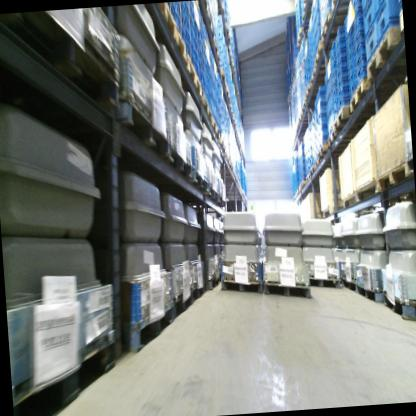pallet: (5, 6, 125, 122), (10, 326, 121, 416), (122, 96, 172, 164), (120, 304, 177, 355), (147, 1, 189, 70), (347, 77, 406, 117), (366, 28, 407, 82), (163, 143, 197, 189), (311, 34, 350, 68), (382, 286, 416, 325), (263, 276, 311, 303), (327, 122, 372, 149), (319, 6, 353, 39), (355, 277, 391, 306), (221, 277, 265, 300), (334, 105, 370, 132), (182, 50, 203, 95), (186, 163, 210, 199), (318, 140, 358, 159), (197, 90, 214, 127), (173, 291, 195, 319), (309, 273, 340, 291), (305, 79, 328, 102), (340, 276, 359, 299), (316, 155, 345, 170), (199, 12, 214, 40), (191, 281, 209, 303), (296, 25, 312, 49), (309, 65, 330, 83), (301, 98, 322, 116), (329, 0, 358, 13), (207, 270, 220, 296), (209, 40, 221, 65), (300, 6, 315, 26), (211, 117, 222, 140), (222, 24, 233, 47), (207, 184, 219, 205), (218, 70, 228, 91), (217, 170, 236, 179), (224, 87, 232, 108), (220, 161, 233, 173), (216, 193, 226, 208), (217, 0, 225, 16), (219, 137, 227, 152), (310, 166, 317, 178), (305, 174, 314, 183), (303, 0, 316, 6), (222, 154, 229, 165), (300, 179, 308, 188)
small_load_carrier: (375, 0, 401, 41), (363, 19, 380, 63), (361, 0, 377, 41), (185, 20, 199, 54), (351, 19, 368, 45), (185, 32, 198, 66), (181, 6, 197, 31), (353, 32, 370, 55), (333, 49, 348, 75), (354, 43, 370, 67), (354, 54, 370, 78), (333, 27, 347, 54), (354, 67, 369, 91), (349, 0, 366, 21), (185, 49, 198, 75), (334, 40, 347, 63), (376, 0, 398, 13), (350, 8, 363, 30), (336, 68, 349, 89), (316, 100, 329, 119), (335, 59, 347, 79), (337, 100, 350, 118), (345, 37, 355, 59), (318, 122, 329, 142), (337, 90, 349, 108), (347, 72, 357, 93), (347, 61, 357, 82), (348, 81, 358, 101), (346, 49, 356, 69), (362, 0, 374, 15), (318, 135, 330, 150), (338, 79, 348, 96), (301, 72, 312, 87), (317, 114, 328, 128), (302, 61, 311, 78), (343, 23, 353, 37), (345, 32, 353, 49), (201, 69, 208, 88), (184, 1, 195, 13), (201, 60, 207, 78), (397, 0, 403, 17), (200, 49, 206, 66), (350, 0, 363, 6)
